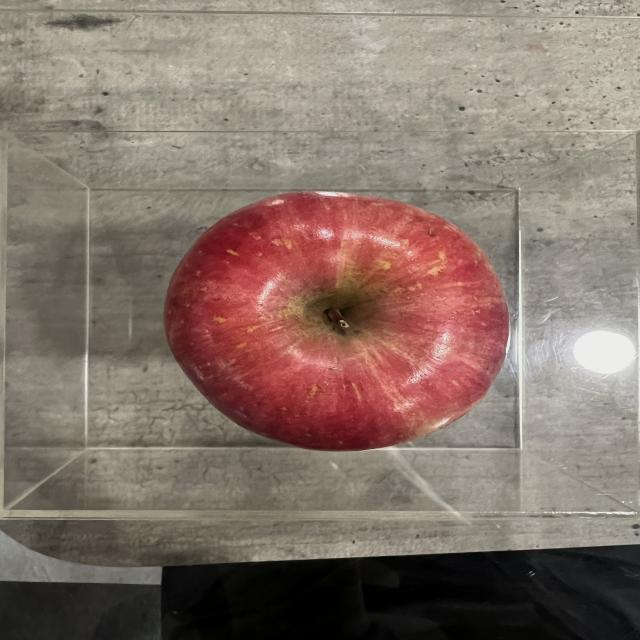red apple: (164, 188, 508, 448)
